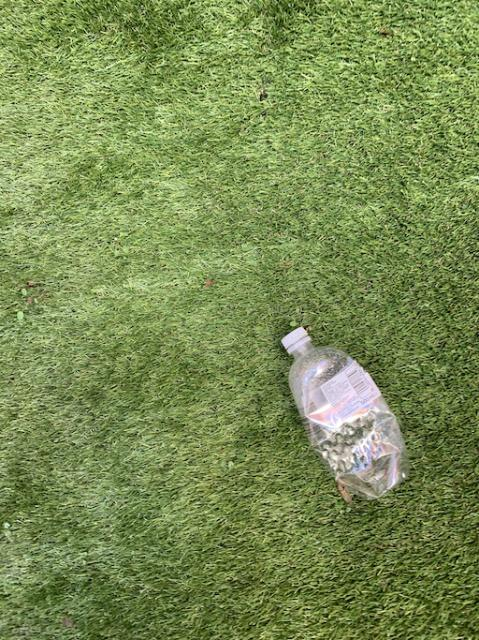plastic: (281, 326, 408, 501)
